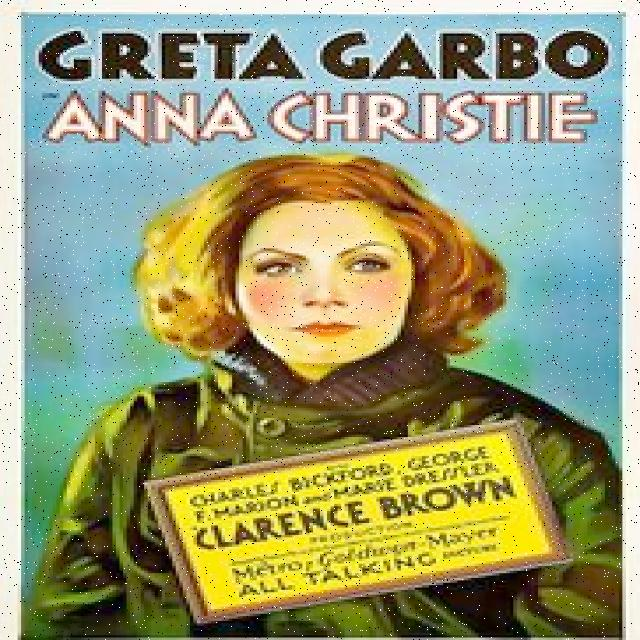movie-judul: (37, 91, 608, 149)
picture: (60, 157, 619, 632)
